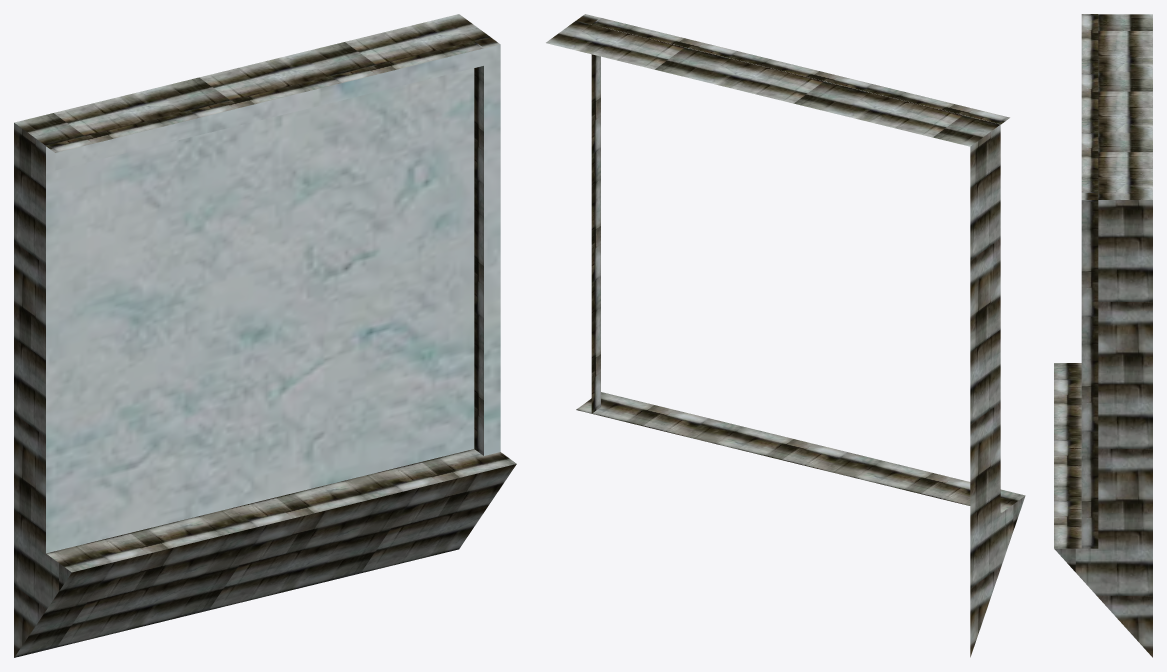
3 renders of one model, left to right at view 1: azimuth 30°, elevation 25°; view 2: azimuth 150°, elevation 25°; view 3: azimuth 270°, elevation 25°, orthographic. The views are drawn at different scales.
Visible parts, largest first — view 1: model_Object83; view 2: model_Object83; view 3: model_Object83.
Boxes of the visible parts, x1,y1,x2,y2 form: model_Object83: (14, 14, 516, 657); model_Object83: (546, 14, 1025, 657); model_Object83: (1054, 14, 1152, 657).
Bounding box in the file's own units: 4 × 4.6 × 0.9004.
Materials: 2 (2 with a texture image).
